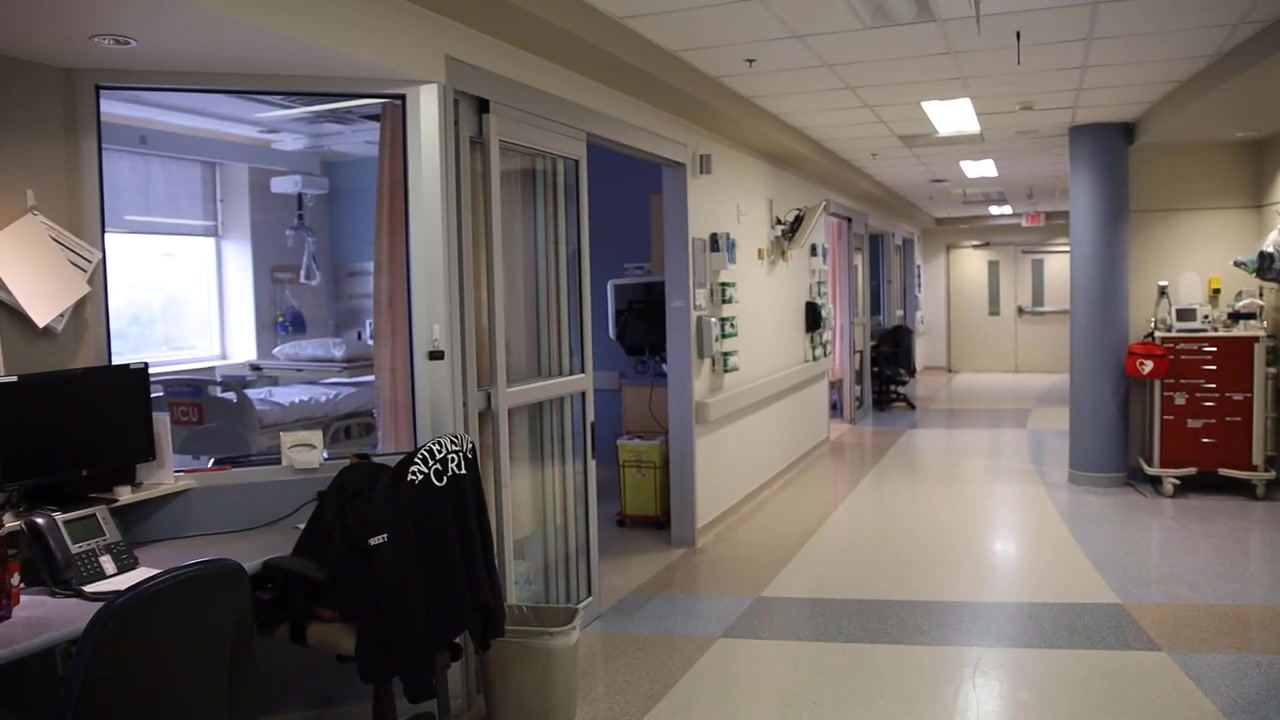TV: (780, 201, 828, 250)
bedrail: (324, 418, 380, 450)
bedside_monitor: (610, 273, 668, 345)
chair: (257, 433, 478, 720), (57, 557, 252, 720), (872, 325, 917, 407)
computer: (1, 362, 156, 495)
countertop: (1, 524, 306, 667)
curtain: (372, 101, 415, 455), (825, 220, 845, 383)
dispenser: (279, 429, 325, 469), (710, 230, 737, 271), (697, 314, 721, 360), (711, 281, 739, 305), (805, 300, 823, 335), (717, 353, 741, 373), (718, 319, 740, 339)
foot_board: (150, 376, 260, 458)
hallway_assist_bar: (695, 357, 829, 421)
handle: (1199, 346, 1218, 352), (1200, 364, 1217, 370), (1200, 437, 1216, 443), (1200, 401, 1217, 406), (1200, 384, 1217, 388)
hospital_bed: (150, 374, 376, 468)
medical_drawer: (1137, 328, 1276, 500)
overbed_table: (216, 361, 373, 394)
push_latch: (1024, 307, 1070, 312)
telephone: (19, 504, 140, 590)
waste_bin: (615, 434, 668, 520)
